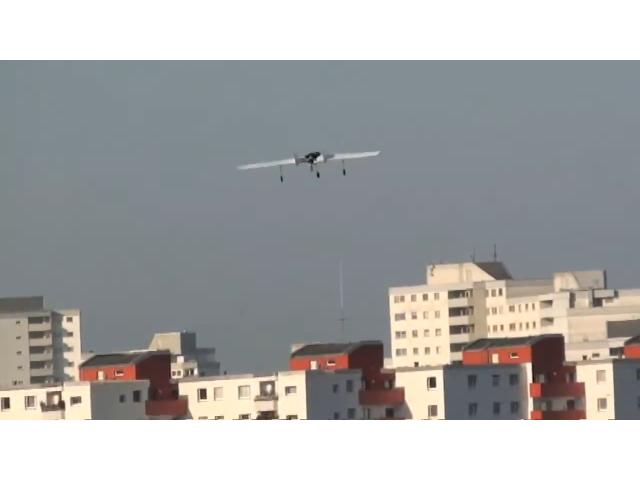Anti-Drone: (224, 142, 398, 190)
